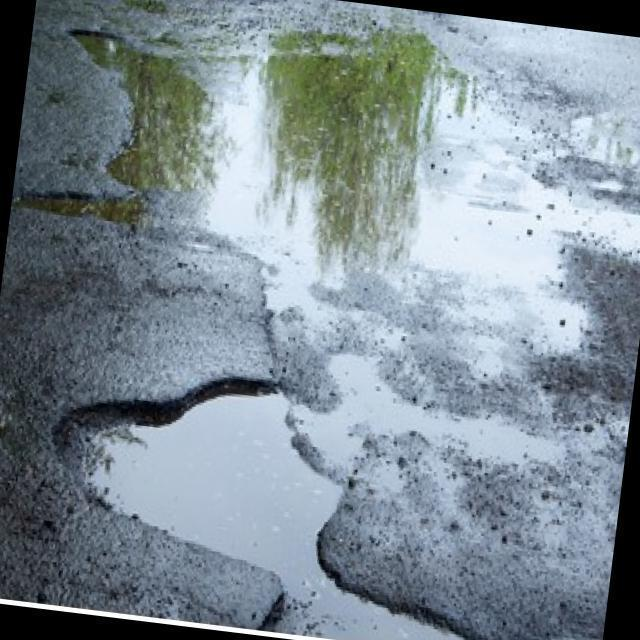pothole: (31, 346, 363, 594)
